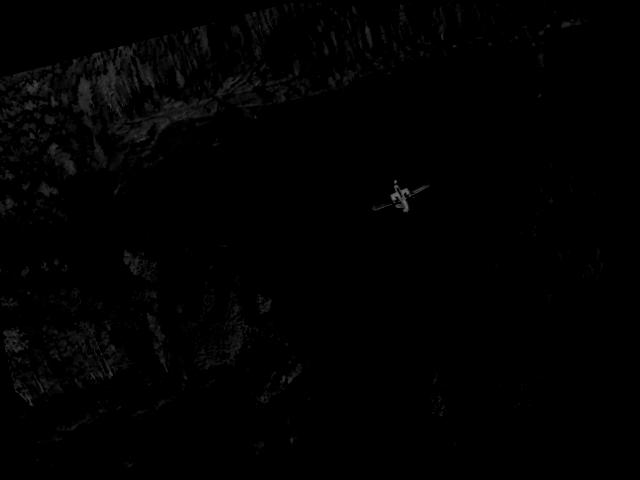hedef: (362, 162, 450, 230)
